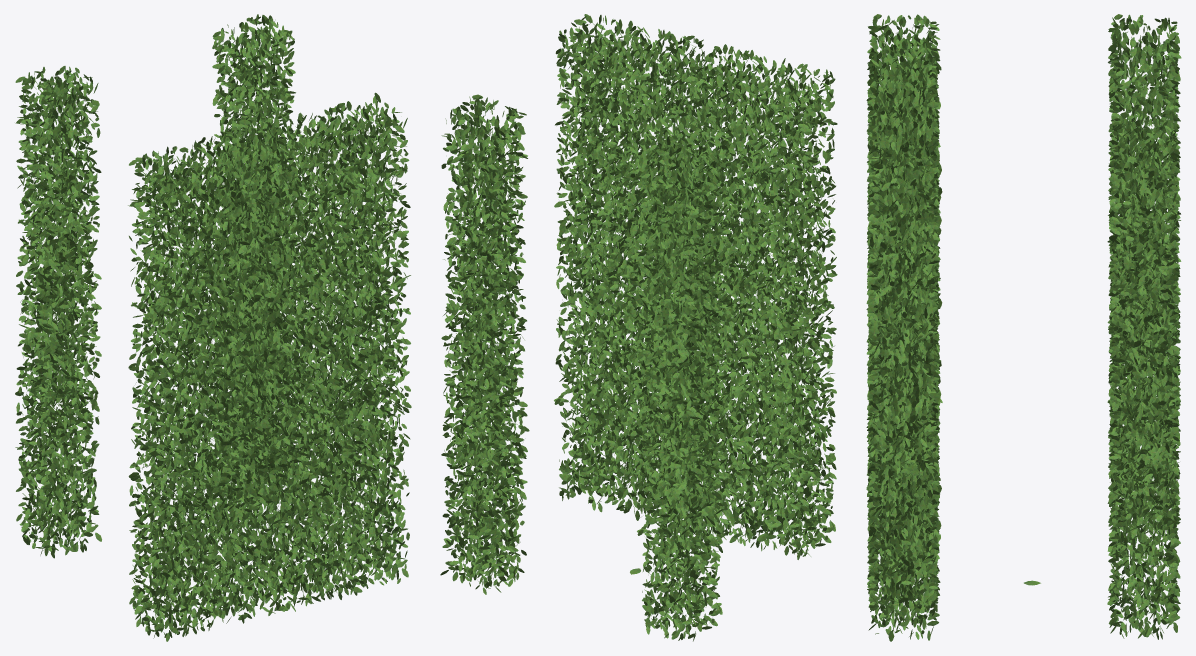
Rendered from T_Path.glb.
3 renders of one model, left to right at view 1: azimuth 30°, elevation 25°; view 2: azimuth 150°, elevation 25°; view 3: azimuth 270°, elevation 25°, orthographic. The views are drawn at different scales.
Visible parts, largest first — view 1: Cube, Cube.001, Cube.002; view 2: Cube, Cube.001, Cube.002; view 3: Cube, Cube.002, Cube.001.
Boxes of the visible parts, x1,y1,x2,y2 form: Cube: (128,92,411,641); Cube.001: (15,66,101,558); Cube.002: (212,14,296,510); Cube: (554,14,837,559); Cube.001: (637,143,723,641); Cube.002: (440,94,529,594); Cube: (866,14,942,641); Cube.002: (1107,117,1181,639); Cube.001: (1107,14,1181,537).
Bounding box in the file's own units: 5.24 × 9.3 × 5.24.
1 material, 1 textured.
